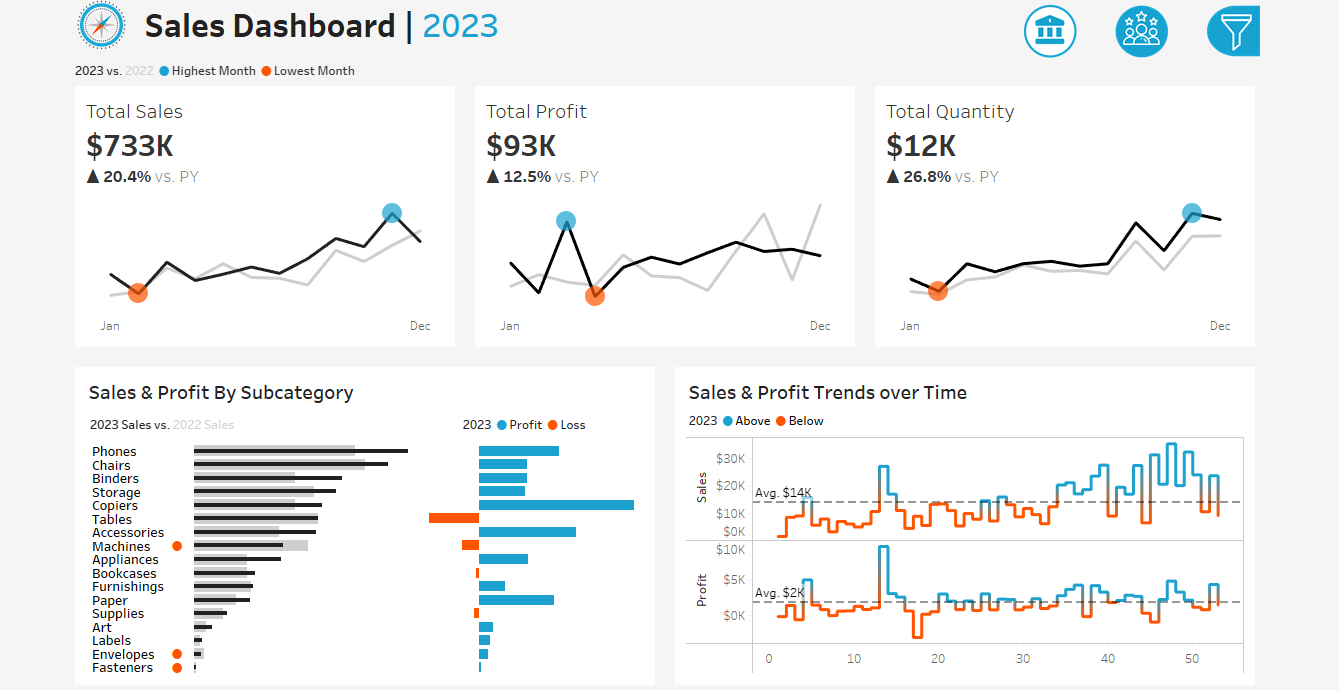

The page's visual inventory and layout, read from the dashboard file:
{"tool":"tableau","page":{"name":"Sales Dashboard","canvas":[1200,800],"ordinal":1},"visuals":[{"type":"image","param":"Image/Icon - Logo.png","box":[1,1,67,53]},{"type":"text","box":[68,1,1131,53]},{"type":"dashboard-object","box":[930,1,97,66]},{"type":"dashboard-object","box":[1027,1,97,66]},{"type":"blank","box":[954,12,235,53]},{"type":"worksheet","title":"Legend KPI","mark":"Automatic","box":[1,54,1198,24]},{"type":"text","box":[954,65,235,34]},{"type":"worksheet","title":"KPI Sales","mark":"Automatic","rows":["Calculation_231372441336492036"],"cols":["Order Date"],"box":[1,78,399.3,303]},{"type":"worksheet","title":"KPI Profit","mark":"Automatic","rows":["Calculation_231372441410908178"],"cols":["Order Date"],"box":[400.3,78,399.3,303]},{"type":"worksheet","title":"KPI Quantity","mark":"Automatic","rows":["Calculation_231372441412669459"],"cols":["Order Date"],"box":[799.7,78,399.3,303]},{"type":"parameter","param":"[Parameters].[Parameter 1]","box":[954,99,235,52]},{"type":"text","box":[954,151,235,29]},{"type":"filter","title":"KPI Sales","param":"[federated.0yflek91t7tu3w1cqgzft1cg3itz].[none:Category:nk]","box":[954,180,235,52]},{"type":"filter","title":"KPI Sales","param":"[federated.0yflek91t7tu3w1cqgzft1cg3itz].[none:Sub-Category:nk]","box":[954,232,235,52]},{"type":"blank","box":[954,284,235,50]},{"type":"text","box":[954,334,235,29]},{"type":"filter","title":"KPI Sales","param":"[federated.0yflek91t7tu3w1cqgzft1cg3itz].[none:Region:nk]","box":[954,363,235,52]},{"type":"text","box":[12,392,571,34]},{"type":"text","box":[617,398,565,34]},{"type":"filter","title":"KPI Sales","param":"[federated.0yflek91t7tu3w1cqgzft1cg3itz].[none:State:nk]","box":[954,415,235,52]},{"type":"worksheet","title":"Legend Subcategory","mark":"Automatic","box":[12,431.6,378,32]},{"type":"text","box":[390,431.6,193,32]},{"type":"text","box":[617,432,565,25]},{"type":"worksheet","title":"Weekly Trends","mark":"Line","rows":["Calculation_231372441317523456","Calculation_231372441346588681"],"cols":["Order Date"],"box":[617,457,565,325]},{"type":"worksheet","title":"Subcategory Comparison","mark":"Bar","rows":["Sub-Category","Calculation_231372441430376472"],"cols":["Sales 2023 (copy)_231372441318641665","Calculation_231372441317523456","Calculation_231372441346588681"],"box":[12,463.6,571,324.4]},{"type":"filter","title":"KPI Sales","param":"[federated.0yflek91t7tu3w1cqgzft1cg3itz].[none:City:nk]","box":[954,467,235,52]}]}

Visuals, with their boxes on the page's 1200x800 design canvas (x1, y1, x2, y2). These are canvas units, not pixel positions in the 1339x690 screenshot, which may show the page scaled, cropped or inside an application window:
image: 1/1/68/54
text: 68/1/1199/54
dashboard-object: 930/1/1027/67
dashboard-object: 1027/1/1124/67
blank: 954/12/1189/65
"Legend KPI" worksheet: 1/54/1199/78
text: 954/65/1189/99
"KPI Sales" worksheet: 1/78/400/381
"KPI Profit" worksheet: 400/78/800/381
"KPI Quantity" worksheet: 800/78/1199/381
parameter: 954/99/1189/151
text: 954/151/1189/180
"KPI Sales" filter: 954/180/1189/232
"KPI Sales" filter: 954/232/1189/284
blank: 954/284/1189/334
text: 954/334/1189/363
"KPI Sales" filter: 954/363/1189/415
text: 12/392/583/426
text: 617/398/1182/432
"KPI Sales" filter: 954/415/1189/467
"Legend Subcategory" worksheet: 12/432/390/464
text: 390/432/583/464
text: 617/432/1182/457
"Weekly Trends" worksheet (Line marks): 617/457/1182/782
"Subcategory Comparison" worksheet (Bar marks): 12/464/583/788
"KPI Sales" filter: 954/467/1189/519
